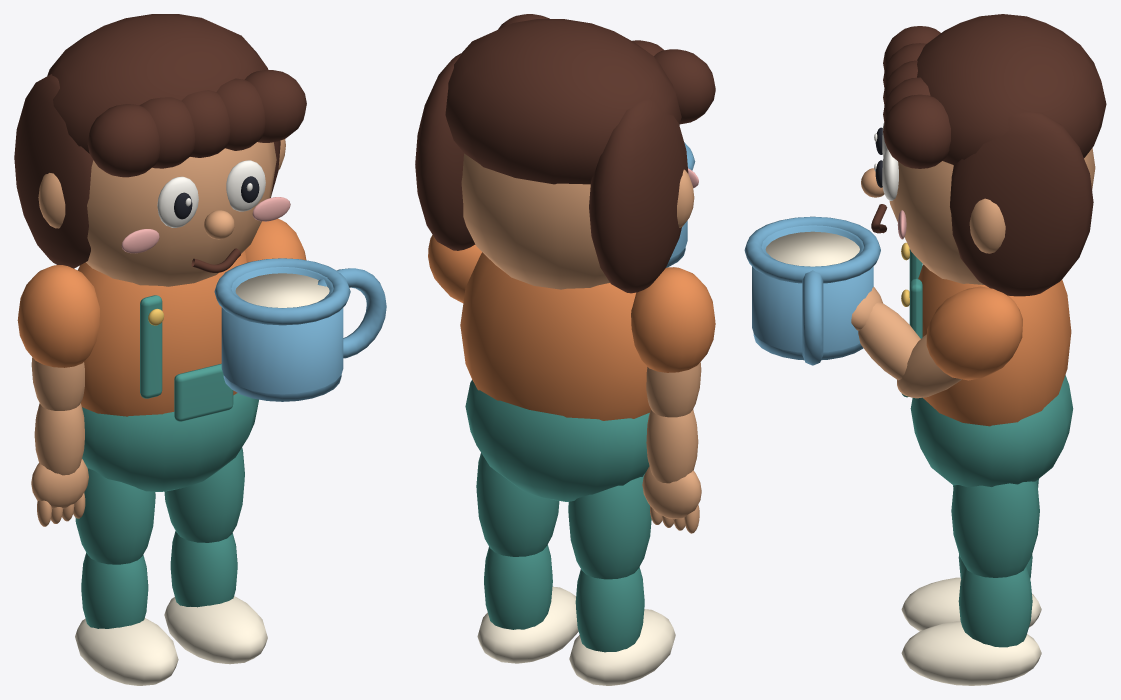
The model's file is ava-need-water.glb.
3 views of the same model, side by side, from view 1: azimuth 30°, elevation 25°; view 2: azimuth 150°, elevation 25°; view 3: azimuth 270°, elevation 25° (orthographic). The views are drawn at different scales.
Visible parts, largest first — view 1: hair cap, clay head, soft shirt, overalls, bob hair, hollow cup wall, shirt sleeve, trouser leg, little shoe, little shoe.001, trouser leg.001, fringe (+22 smaller); view 2: hair cap, soft shirt, bob hair, overalls, clay head, shirt sleeve, trouser leg, bob hair.001, trouser leg.001, lower leg.001, lower leg, little shoe (+7 smaller); view 3: bob hair.001, hair cap, soft shirt, overalls, trouser leg.001, hollow cup wall, shirt sleeve.001, clay head, little shoe.001, lower leg.001, fringe.004, cup rim (+14 smaller).
Boxes of the visible parts, box(x1,y1,x2,y2) form: hair cap: box(47, 14, 268, 153); clay head: box(86, 142, 276, 286); soft shirt: box(77, 251, 246, 416); overalls: box(82, 393, 258, 491); bob hair: box(14, 74, 93, 268); hollow cup wall: box(221, 266, 343, 394); shirt sleeve: box(17, 265, 99, 367); trouser leg: box(75, 468, 155, 564); little shoe: box(75, 618, 178, 685); little shoe.001: box(164, 596, 267, 664); trouser leg.001: box(164, 447, 244, 542); fringe: box(87, 104, 159, 177); hair cap: box(445, 19, 681, 184); soft shirt: box(460, 252, 650, 420); bob hair: box(589, 99, 688, 293); overalls: box(465, 380, 649, 501); clay head: box(461, 153, 609, 289); shirt sleeve: box(631, 267, 715, 372); trouser leg: box(568, 474, 651, 579); bob hair.001: box(415, 53, 475, 250); trouser leg.001: box(476, 453, 559, 556); lower leg.001: box(484, 544, 552, 629); lower leg: box(575, 567, 644, 652); little shoe: box(569, 609, 675, 685); bob hair.001: box(950, 112, 1093, 296); hair cap: box(917, 14, 1106, 165); soft shirt: box(918, 264, 1071, 426); overalls: box(910, 375, 1073, 487); trouser leg.001: box(951, 481, 1039, 577); hollow cup wall: box(752, 225, 873, 352); shirt sleeve.001: box(926, 286, 1022, 380); clay head: box(889, 148, 1095, 284); little shoe.001: box(901, 621, 1041, 685); lower leg.001: box(958, 566, 1032, 647); fringe.004: box(883, 94, 950, 168); cup rim: box(744, 216, 880, 283).
Bounding box in the file's own units: 0.858 × 1.87 × 0.98.
